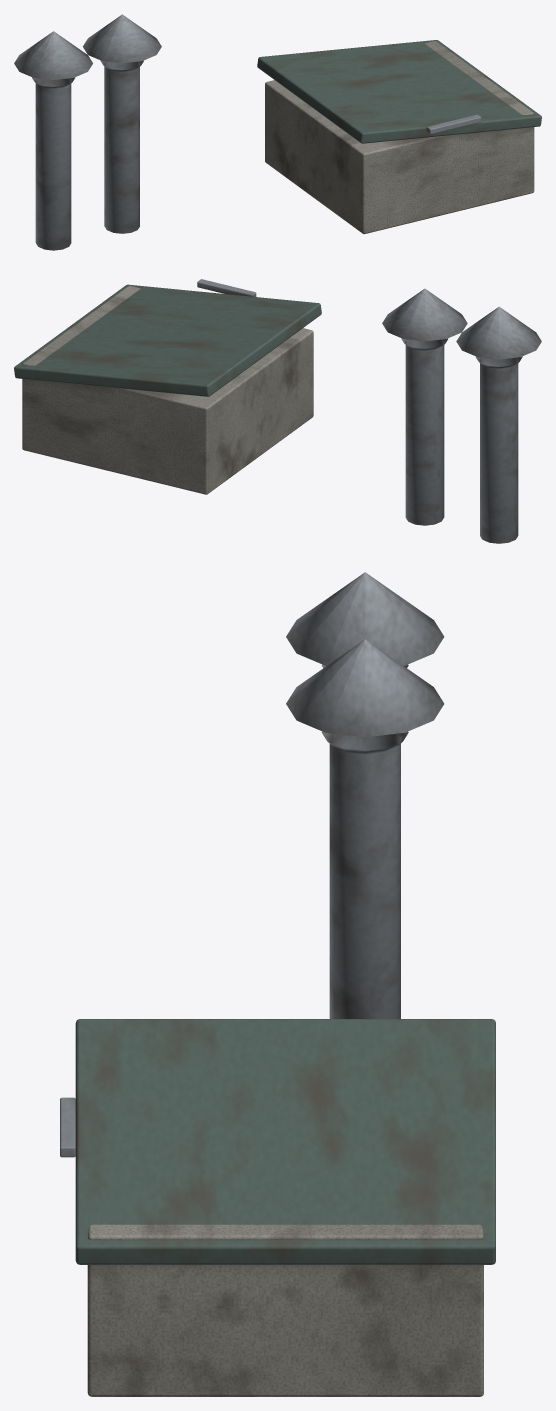
The model's file is dach_nadstawka.glb.
The picture shows the model from 3 angles, top to bottom: view 1: azimuth 30°, elevation 25°; view 2: azimuth 150°, elevation 25°; view 3: azimuth 270°, elevation 25°; orthographic projection. The views are drawn at different scales.
Parts seen in each view (by area): view 1: Nadstawka; view 2: Nadstawka; view 3: Nadstawka.
Part boxes in pixels (bbox=[...]): Nadstawka: bbox=[14, 14, 541, 250]; Nadstawka: bbox=[14, 279, 541, 543]; Nadstawka: bbox=[60, 572, 495, 1396].
Size of the model in its own units: 2.63 by 1.18 by 1.1.
1 material, 1 textured.
